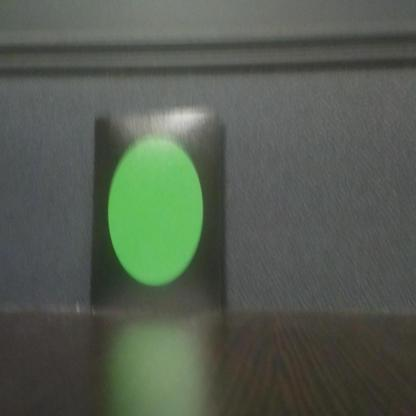go: (95, 118, 221, 299)
